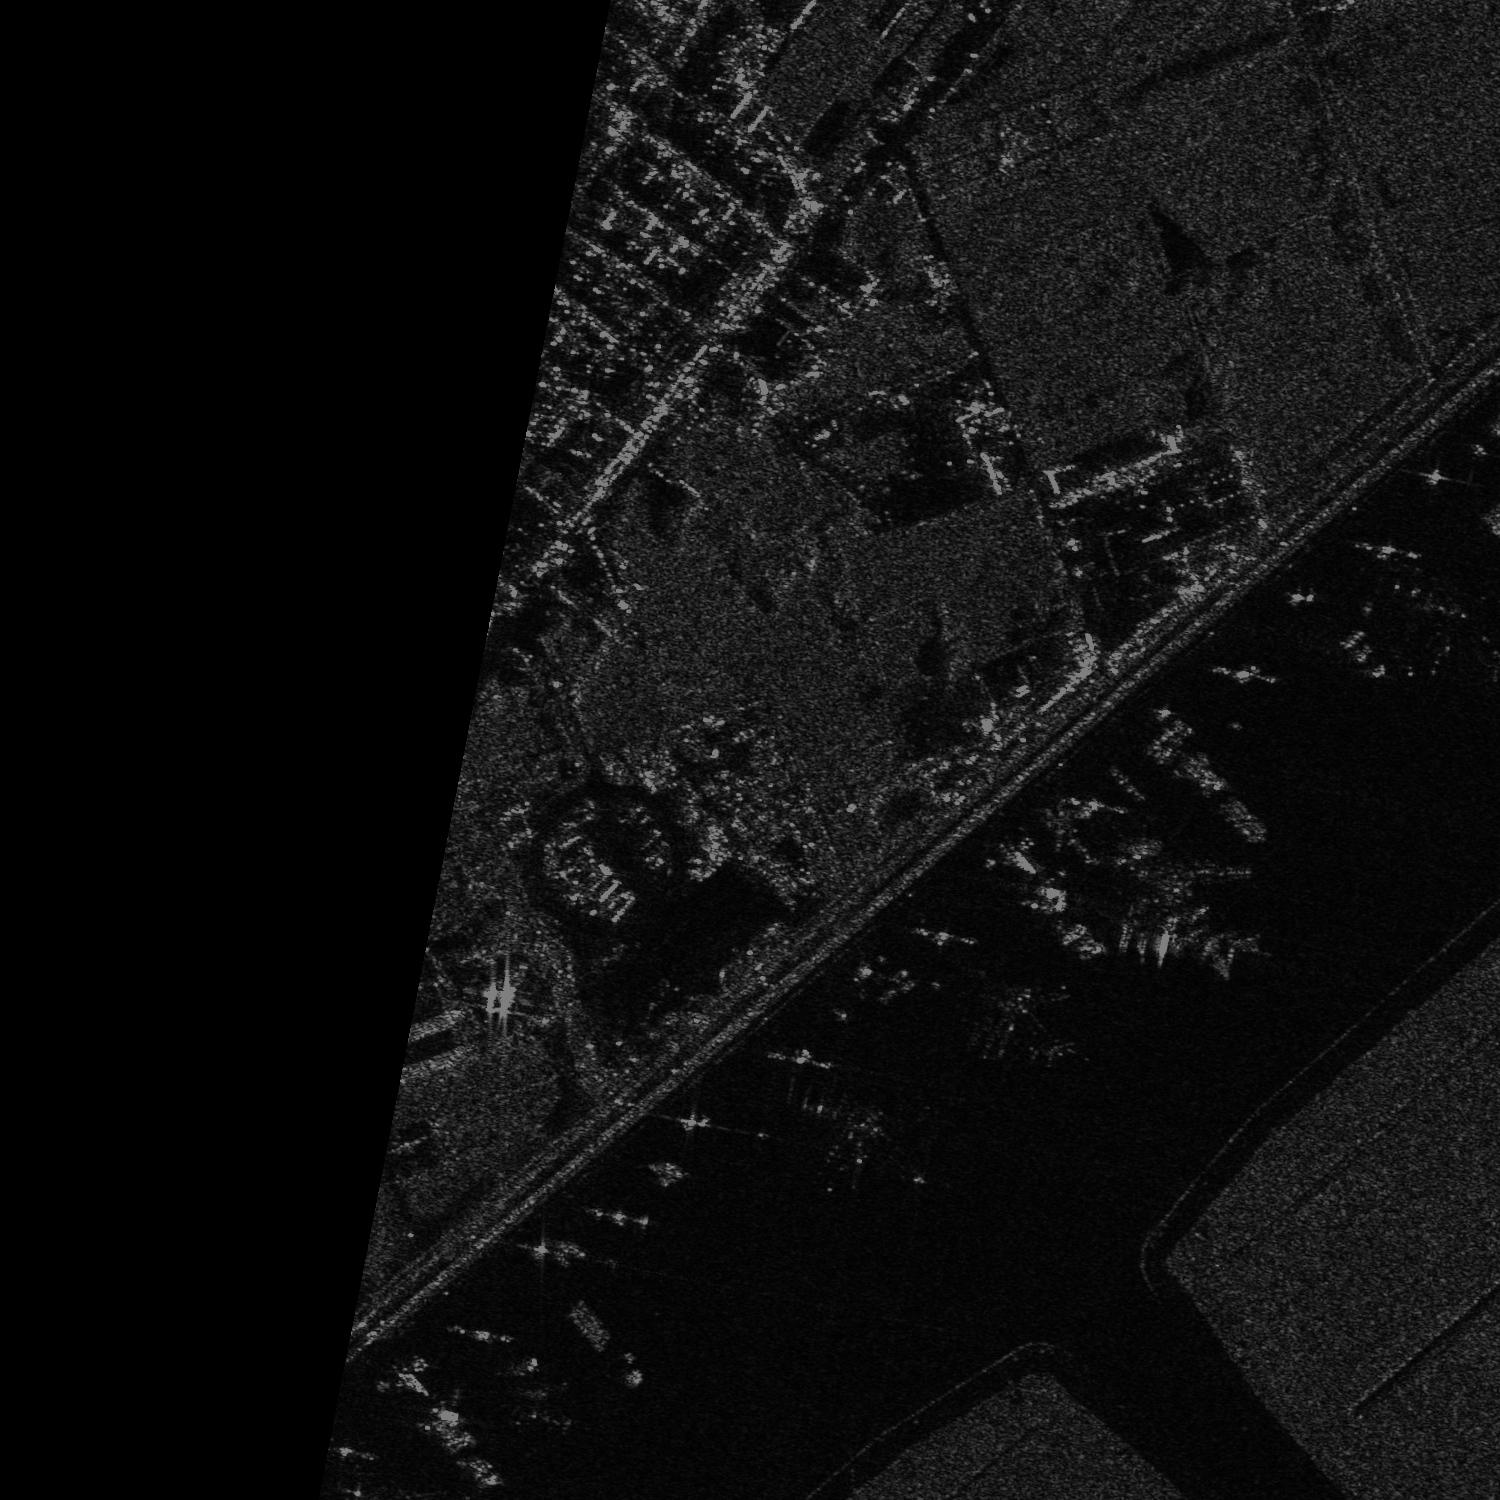Boeing737: (968, 974, 1081, 1071)
other: (1126, 850, 1260, 974), (813, 1077, 924, 1199), (1423, 582, 1499, 690), (497, 1348, 584, 1435)
